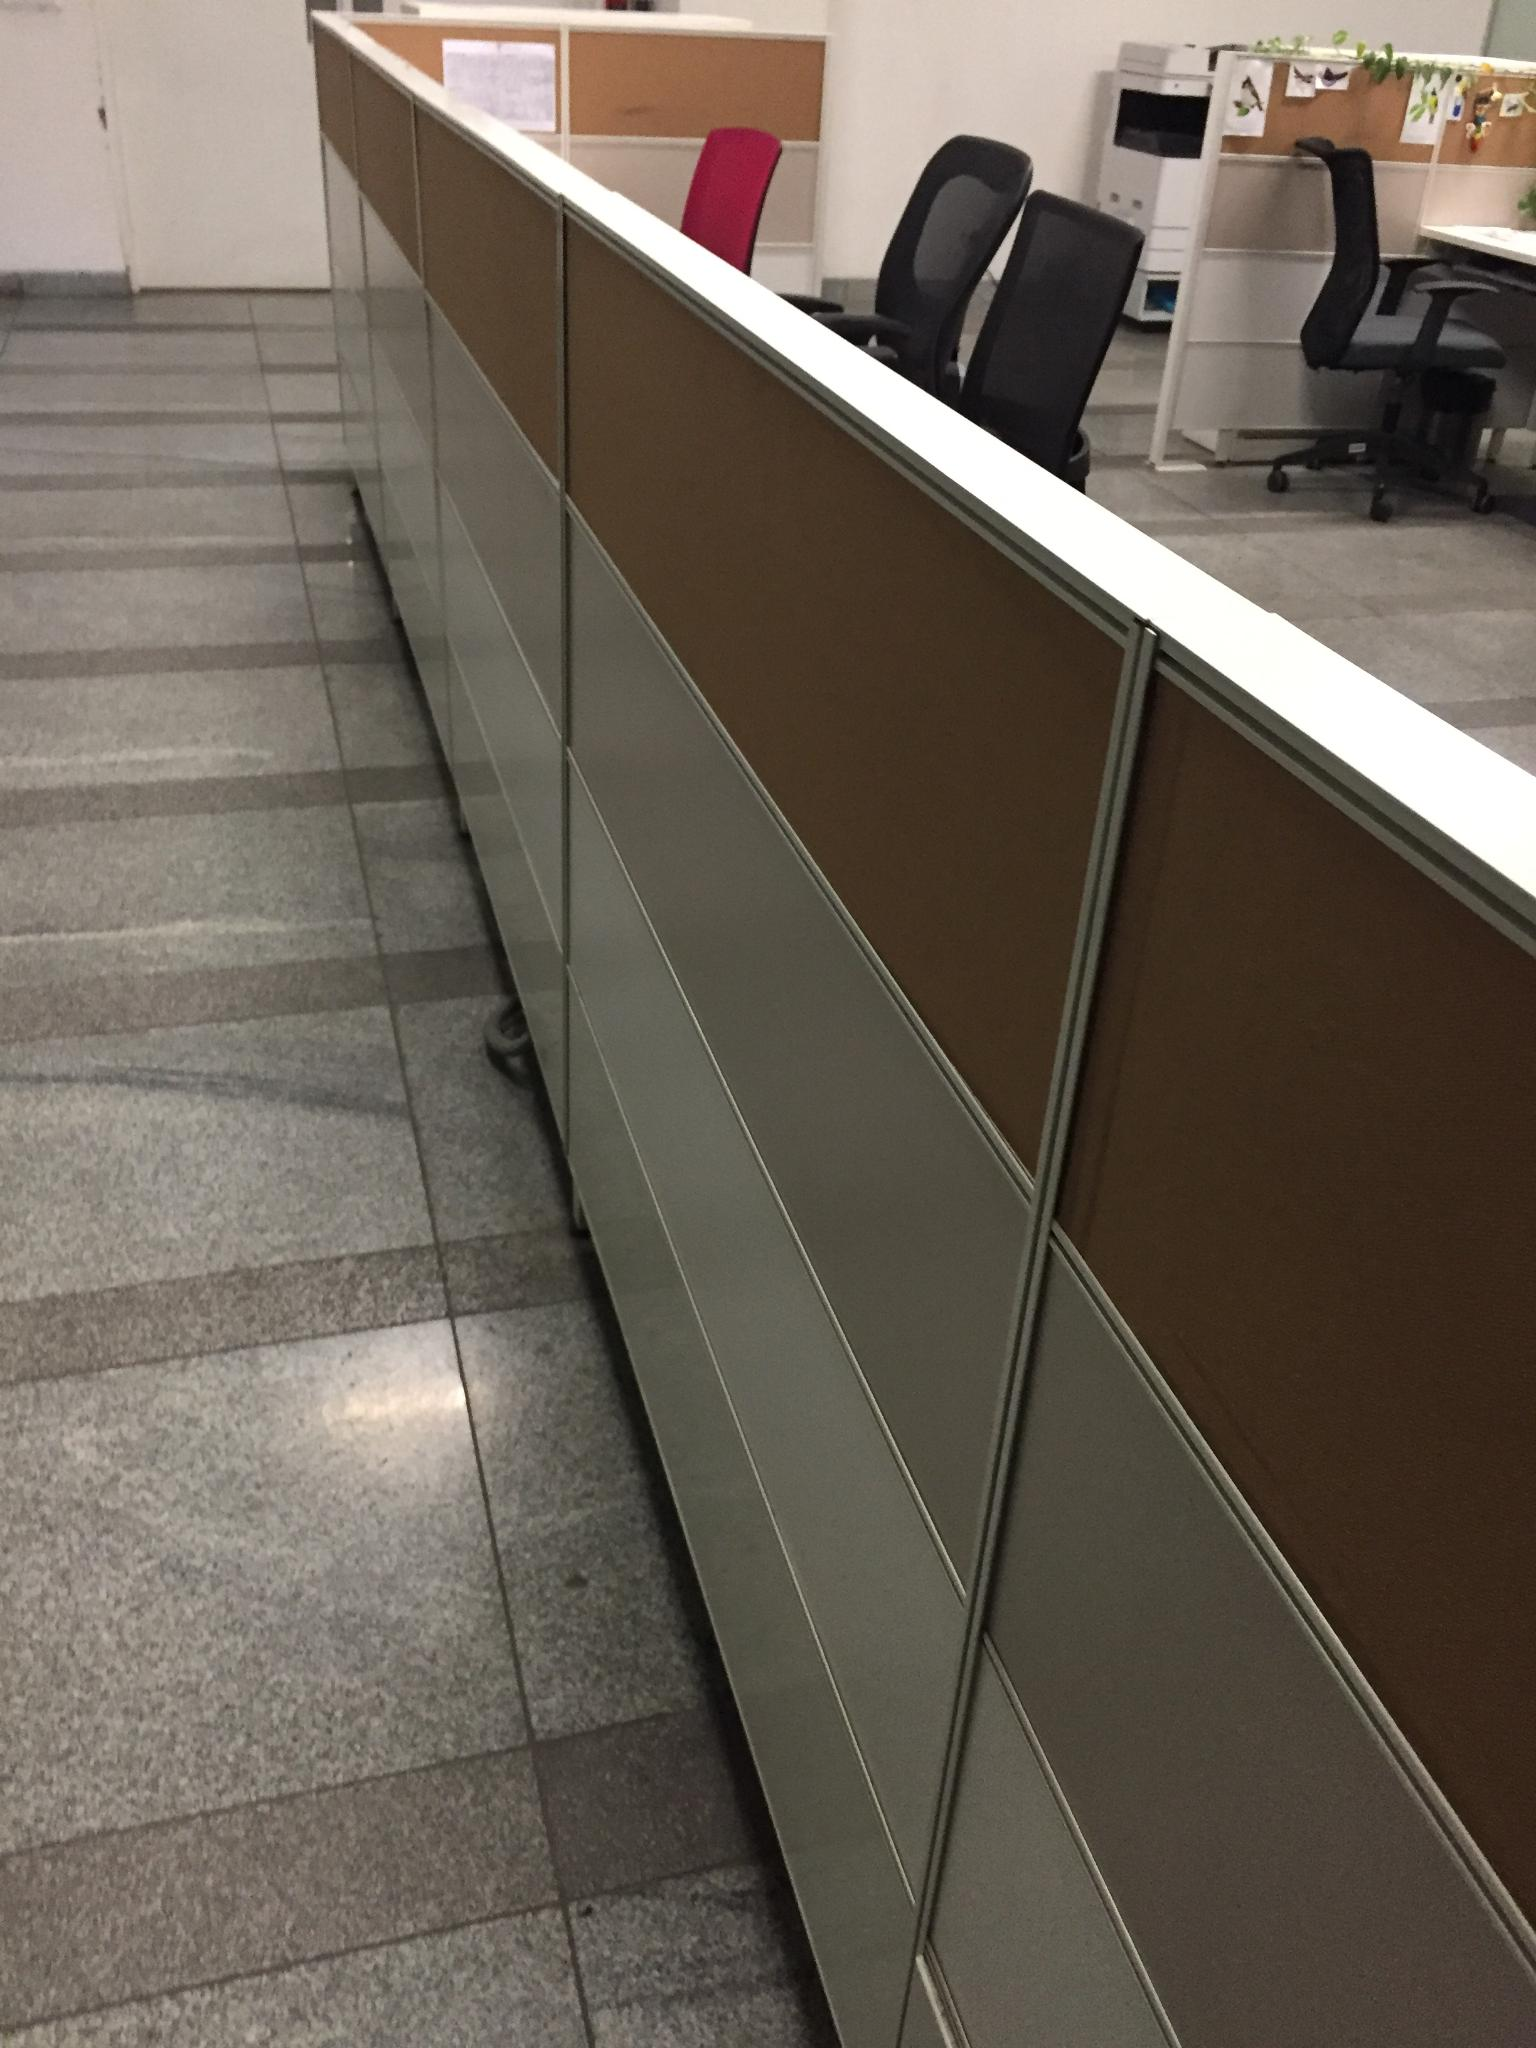chair: (1265, 134, 1505, 521), (779, 132, 1034, 398), (945, 187, 1147, 492), (678, 126, 784, 276)
